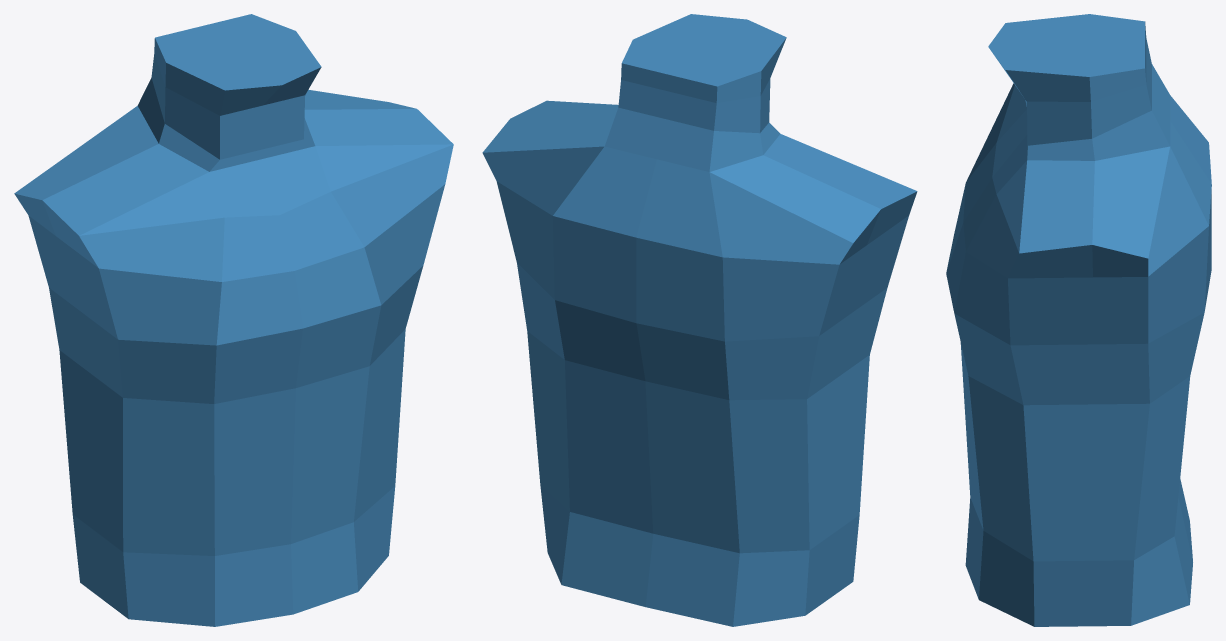
File: Driver_Torso.fbx
3 views of the same model, side by side, from view 1: azimuth 30°, elevation 25°; view 2: azimuth 150°, elevation 25°; view 3: azimuth 270°, elevation 25° (orthographic).
Visible parts, largest first — view 1: Driver_Torso; view 2: Driver_Torso; view 3: Driver_Torso.
Part boxes in pixels (<box>): Driver_Torso: <box>14,14,453,626</box>; Driver_Torso: <box>482,14,917,626</box>; Driver_Torso: <box>946,14,1211,626</box>.
Size of the model in its own units: 39.89 by 53.16 by 24.59.
